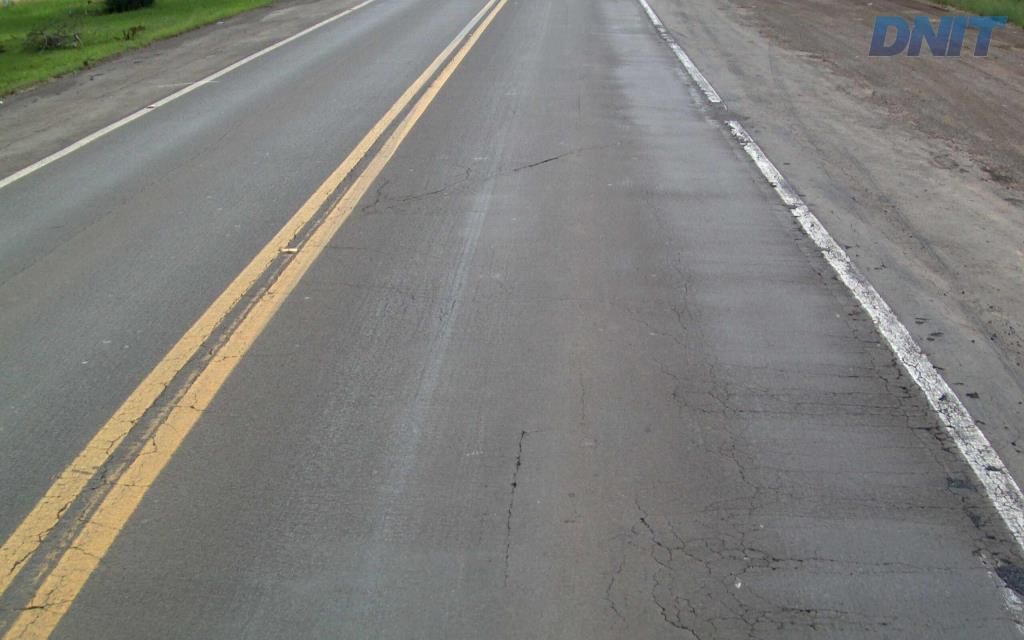crack: (682, 531, 833, 628), (936, 468, 1023, 596), (853, 328, 917, 423), (906, 420, 963, 462), (829, 396, 874, 418)
